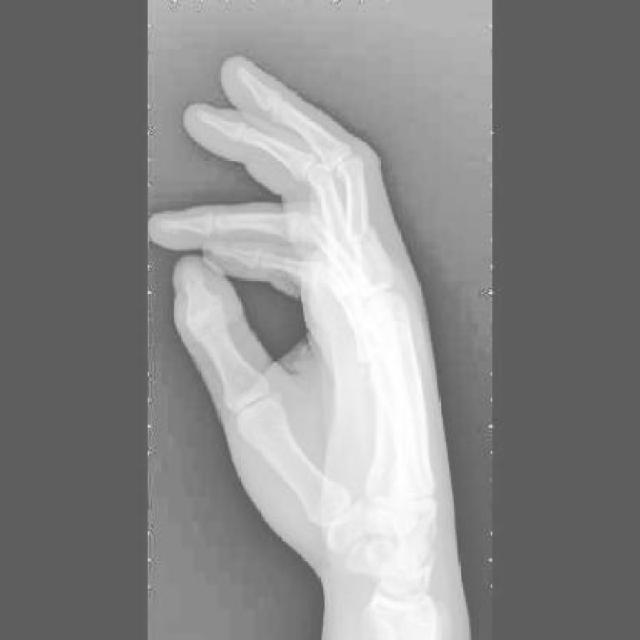Fracture: (349, 220, 383, 259), (333, 245, 370, 279)
